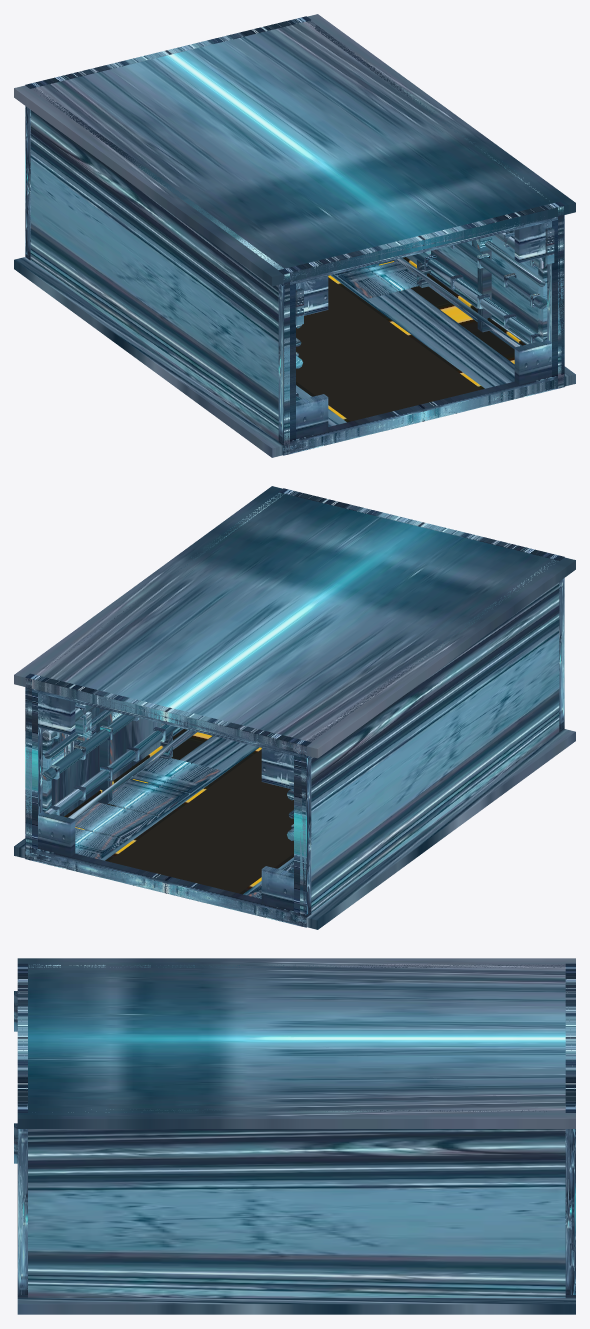
File: hangar_ic_koridor_ice.glb
3 views of the same model, one above another, from view 1: azimuth 30°, elevation 25°; view 2: azimuth 150°, elevation 25°; view 3: azimuth 270°, elevation 25° (orthographic). The views are drawn at different scales.
Parts seen in each view (by area): view 1: LOD0_koridor; view 2: LOD0_koridor; view 3: LOD0_koridor.
Boxes of the visible parts, x1,y1,x2,y2 form: LOD0_koridor: (14, 14, 575, 457); LOD0_koridor: (14, 486, 575, 929); LOD0_koridor: (14, 958, 575, 1314).
Size of the model in its own units: 10.2 by 5.84 by 15.1.
Materials: 1 (1 with a texture image).
